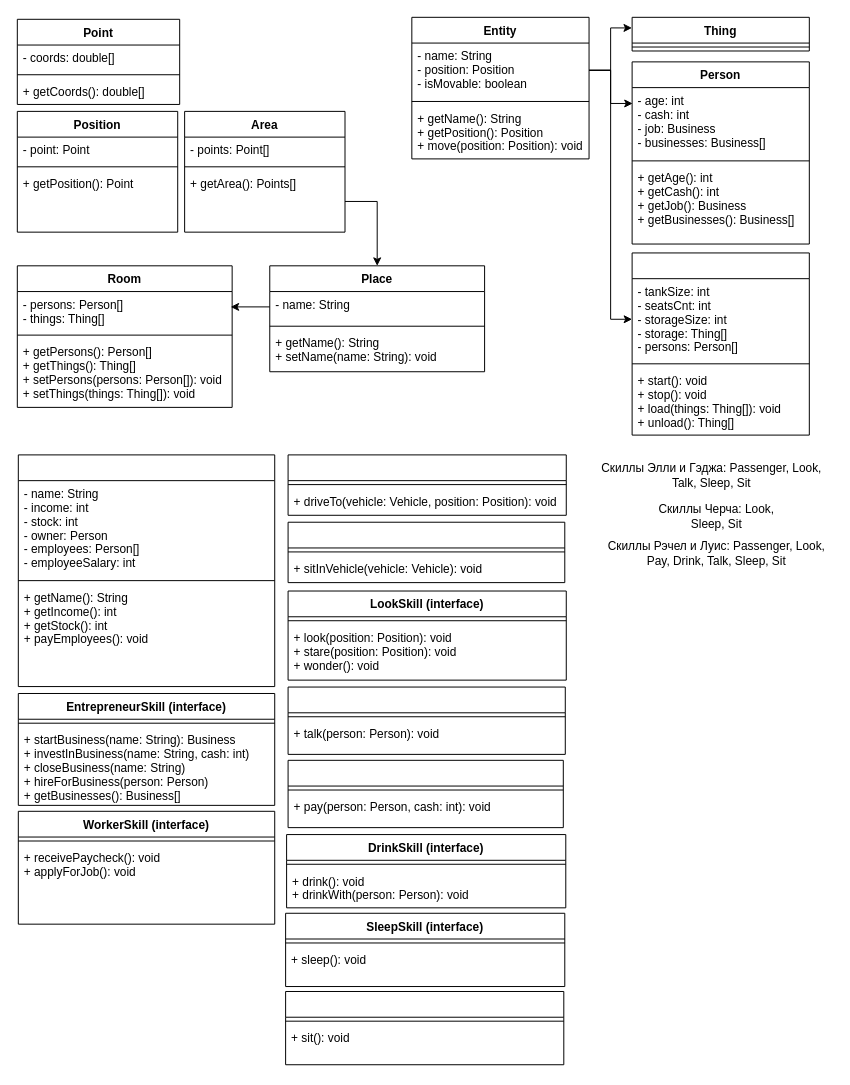
Image size: 850x1085. Some labels were removed from this diagram. The shapes that lost their labels are listed below. From the top down, each one's box as (x1, y1, x2, y2) in pixels, then its label:
(631, 252, 809, 435): Vehicle
(287, 454, 566, 515): DriveSkill (interface)
(17, 454, 275, 687): Business
(287, 521, 565, 583): PassengerSkill (interface)
(287, 686, 565, 754): TalkSkill (interface)
(287, 759, 563, 828): PaySkill (interface)
(285, 990, 564, 1065): SitSkill (interface)
